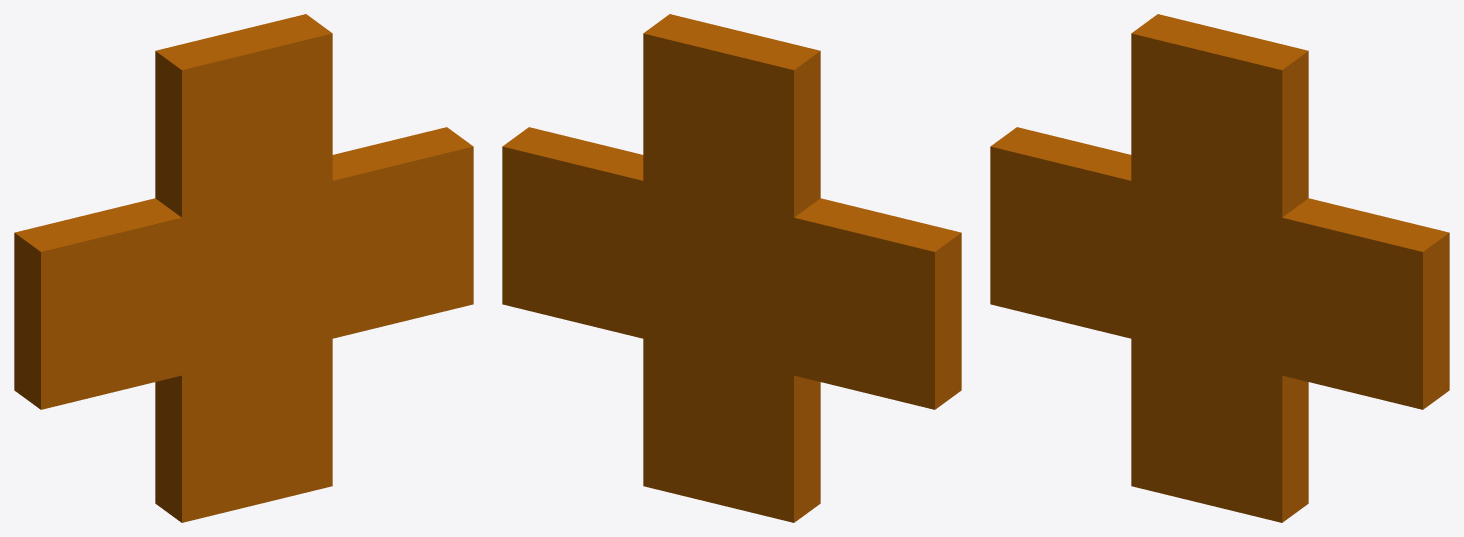
File: OrangePlusGlowing.fbx
The picture shows the model from 3 angles, left to right: view 1: azimuth 30°, elevation 25°; view 2: azimuth 150°, elevation 25°; view 3: azimuth 330°, elevation 25°; orthographic projection.
Parts seen in each view (by area): view 1: pCube2; view 2: pCube2; view 3: pCube2.
Boxes of the visible parts, x1,y1,x2,y2 form: pCube2: [14, 14, 473, 522]; pCube2: [502, 14, 961, 522]; pCube2: [990, 14, 1449, 522].
Bounding box in the file's own units: 25.64 × 25.65 × 2.73.
